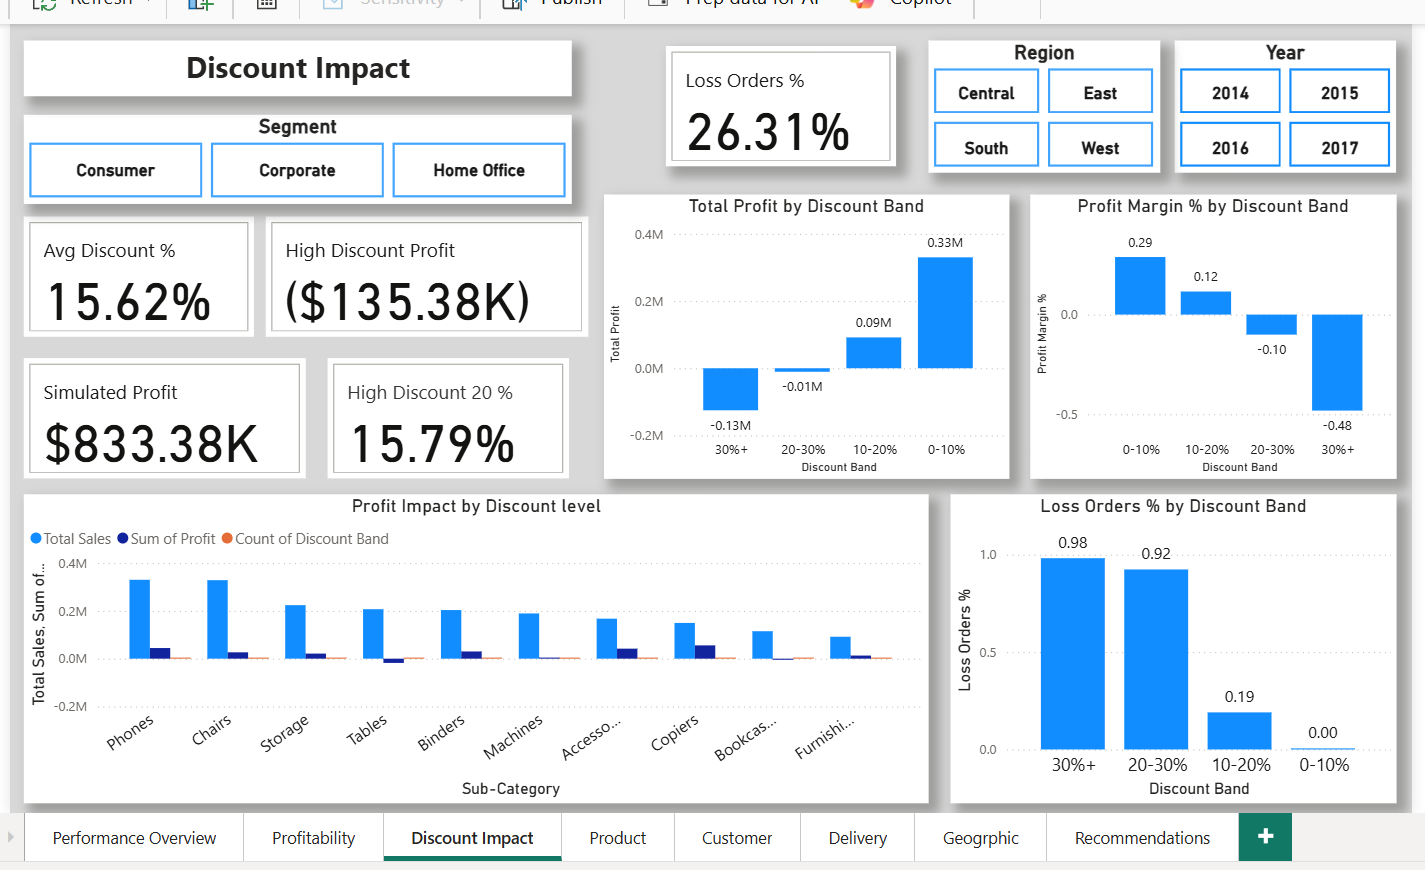

The dashboard page shown, as its layout file describes it:
{"tool":"powerbi","page":{"name":"Discount Impact","canvas":[1280,720],"ordinal":2},"visuals":[{"type":"cardVisual","fields":{"Data":["superstore.Avg Discount %"]},"box":[12.4,176,210.4,110],"z":0},{"type":"cardVisual","fields":{"Data":["superstore.Loss Orders %"]},"box":[598.2,20.6,210.4,110],"z":1000},{"type":"clusteredColumnChart","fields":{"Category":["superstore.Discount Band"],"Y":["superstore.Total Profit"]},"box":[541.9,155.4,369.9,259.9],"z":2000},{"type":"clusteredColumnChart","fields":{"Category":["superstore.Discount Band"],"Y":["superstore.Profit Margin %"]},"box":[931.1,155.4,334.2,259.9],"z":3000},{"type":"clusteredColumnChart","title":"Profit Impact by Discount level","fields":{"Y":["superstore.Total Sales","Sum(superstore.Profit)","CountNonNull(superstore.Discount Band)"],"Category":["superstore.Sub-Category"]},"box":[12.4,429.1,826.5,281.9],"z":4000},{"type":"clusteredColumnChart","fields":{"Category":["superstore.Discount Band"],"Y":["superstore.Loss Orders %"]},"box":[858.2,429.1,407.1,281.9],"z":5000},{"type":"cardVisual","fields":{"Data":["superstore.High Discount Profit"]},"box":[233.8,176,294.3,110],"z":6000},{"type":"cardVisual","fields":{"Data":["superstore.High Discount %"]},"box":[290.2,305.3,220,110],"z":7000},{"type":"cardVisual","fields":{"Data":["superstore.Simulated Profit"]},"box":[12.4,305.3,257.2,110],"z":8000},{"type":"advancedSlicerVisual","fields":{"Values":["DateTable.Date.Variation.Date Hierarchy.Year"]},"box":[1063.1,15.1,202.2,121],"z":9000},{"type":"advancedSlicerVisual","fields":{"Values":["superstore.Region"]},"box":[838.9,15.1,211.8,121],"z":10000},{"type":"advancedSlicerVisual","fields":{"Values":["superstore.Segment"]},"box":[12.4,82.5,500.6,81.1],"z":11000},{"type":"textbox","box":[12.4,15.1,500.6,50.9],"z":12000}]}

Visuals, with their boxes on the page's 1280x720 design canvas (x1, y1, x2, y2). These are canvas units, not pixel positions in the 1425x870 screenshot, which may show the page scaled, cropped or inside an application window:
cardVisual - superstore.Avg Discount %: bbox(12, 176, 223, 286)
cardVisual - superstore.Loss Orders %: bbox(598, 21, 809, 131)
clusteredColumnChart - superstore.Discount Band x superstore.Total Profit: bbox(542, 155, 912, 415)
clusteredColumnChart - superstore.Discount Band x superstore.Profit Margin %: bbox(931, 155, 1265, 415)
"Profit Impact by Discount level" clusteredColumnChart: bbox(12, 429, 839, 711)
clusteredColumnChart - superstore.Discount Band x superstore.Loss Orders %: bbox(858, 429, 1265, 711)
cardVisual - superstore.High Discount Profit: bbox(234, 176, 528, 286)
cardVisual - superstore.High Discount %: bbox(290, 305, 510, 415)
cardVisual - superstore.Simulated Profit: bbox(12, 305, 270, 415)
advancedSlicerVisual - DateTable.Date.Variation.Date Hierarchy.Year: bbox(1063, 15, 1265, 136)
advancedSlicerVisual - superstore.Region: bbox(839, 15, 1051, 136)
advancedSlicerVisual - superstore.Segment: bbox(12, 82, 513, 164)
textbox: bbox(12, 15, 513, 66)
